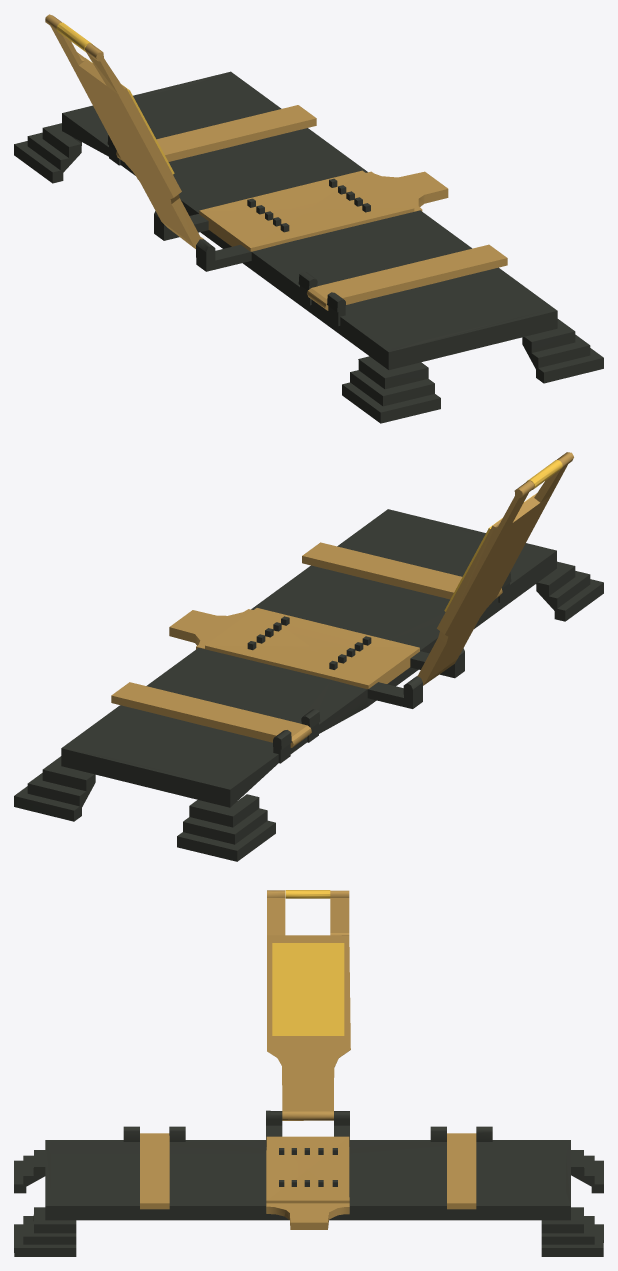
File: cutedit.FBX
3 renders of one model, top to bottom at view 1: azimuth 30°, elevation 25°; view 2: azimuth 150°, elevation 25°; view 3: azimuth 270°, elevation 25°, orthographic. The views are drawn at different scales.
Parts seen in each view (by area): view 1: Foot, inferior a, superior a, Pin 01, Leg 03, Pin 02, Leg 00, Leg 04, Pivots; view 2: Foot, inferior a, superior a, Pin 02, Leg 04, Pin 01, Leg 01, Leg 03, Pivots; view 3: Foot, superior a, inferior a, Place, Leg 01, Leg 00, Pin 01, Pin 02, Leg 04, Leg 03.
Boxes of the visible parts, left/top/right/bottom form: Foot: left=62, top=71, right=557, bottom=369; inferior a: left=199, top=170, right=448, bottom=251; superior a: left=45, top=14, right=203, bottom=248; Pin 01: left=307, top=244, right=507, bottom=310; Leg 03: left=342, top=356, right=440, bottom=423; Pin 02: left=116, top=105, right=316, bottom=161; Leg 00: left=522, top=319, right=603, bottom=383; Leg 04: left=14, top=123, right=81, bottom=183; Pivots: left=247, top=178, right=370, bottom=232; Foot: left=61, top=509, right=556, bottom=807; inferior a: left=169, top=608, right=419, bottom=689; superior a: left=417, top=452, right=573, bottom=685; Pin 02: left=111, top=682, right=311, bottom=747; Leg 04: left=177, top=794, right=275, bottom=861; Pin 01: left=302, top=542, right=502, bottom=599; Leg 01: left=14, top=756, right=95, bottom=821; Leg 03: left=536, top=561, right=603, bottom=621; Pivots: left=247, top=616, right=371, bottom=669; Foot: left=45, top=1110, right=570, bottom=1220; superior a: left=267, top=890, right=350, bottom=1120; inferior a: left=266, top=1136, right=349, bottom=1229; Place: left=272, top=943, right=344, bottom=1035; Leg 01: left=541, top=1207, right=603, bottom=1256; Leg 00: left=14, top=1207, right=76, bottom=1256; Pin 01: left=140, top=1133, right=169, bottom=1209; Pin 02: left=447, top=1133, right=476, bottom=1209; Leg 04: left=571, top=1150, right=603, bottom=1193; Leg 03: left=14, top=1150, right=45, bottom=1193.
Size of the model in its own units: 4075 by 3045 by 7053.
